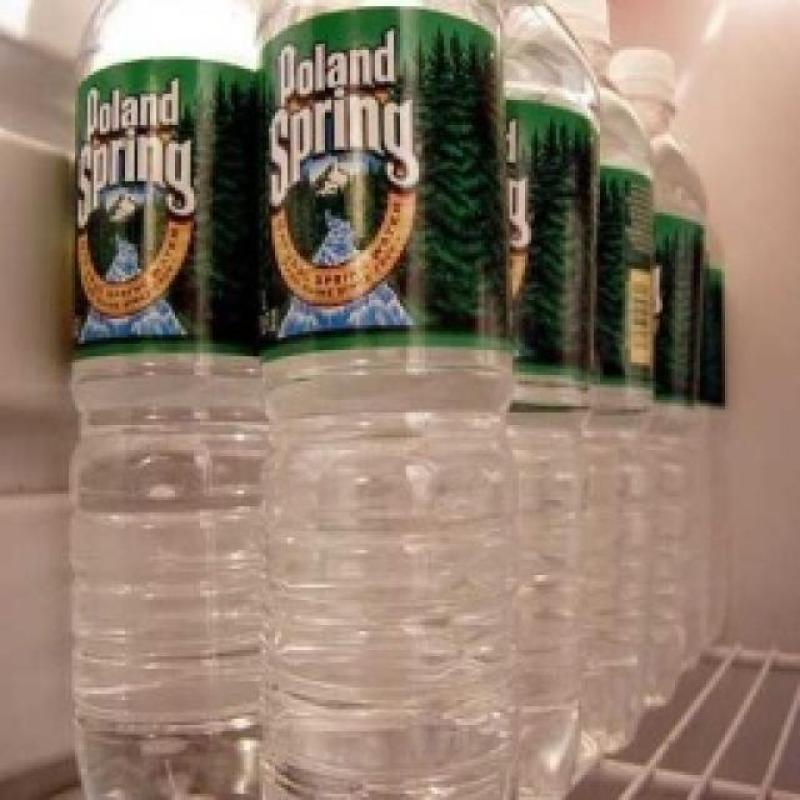botella: (260, 0, 516, 800), (68, 0, 260, 800), (498, 0, 583, 800), (612, 49, 706, 711), (586, 0, 649, 756), (705, 181, 730, 644)
